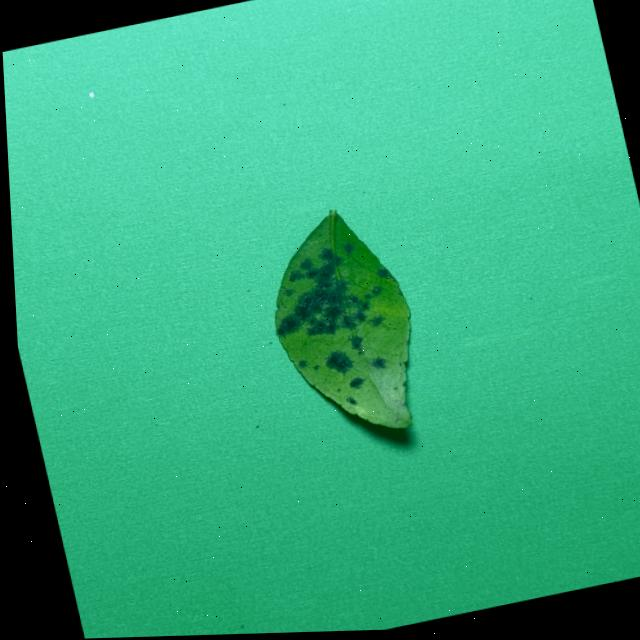sooty_mold: (275, 210, 411, 428)
